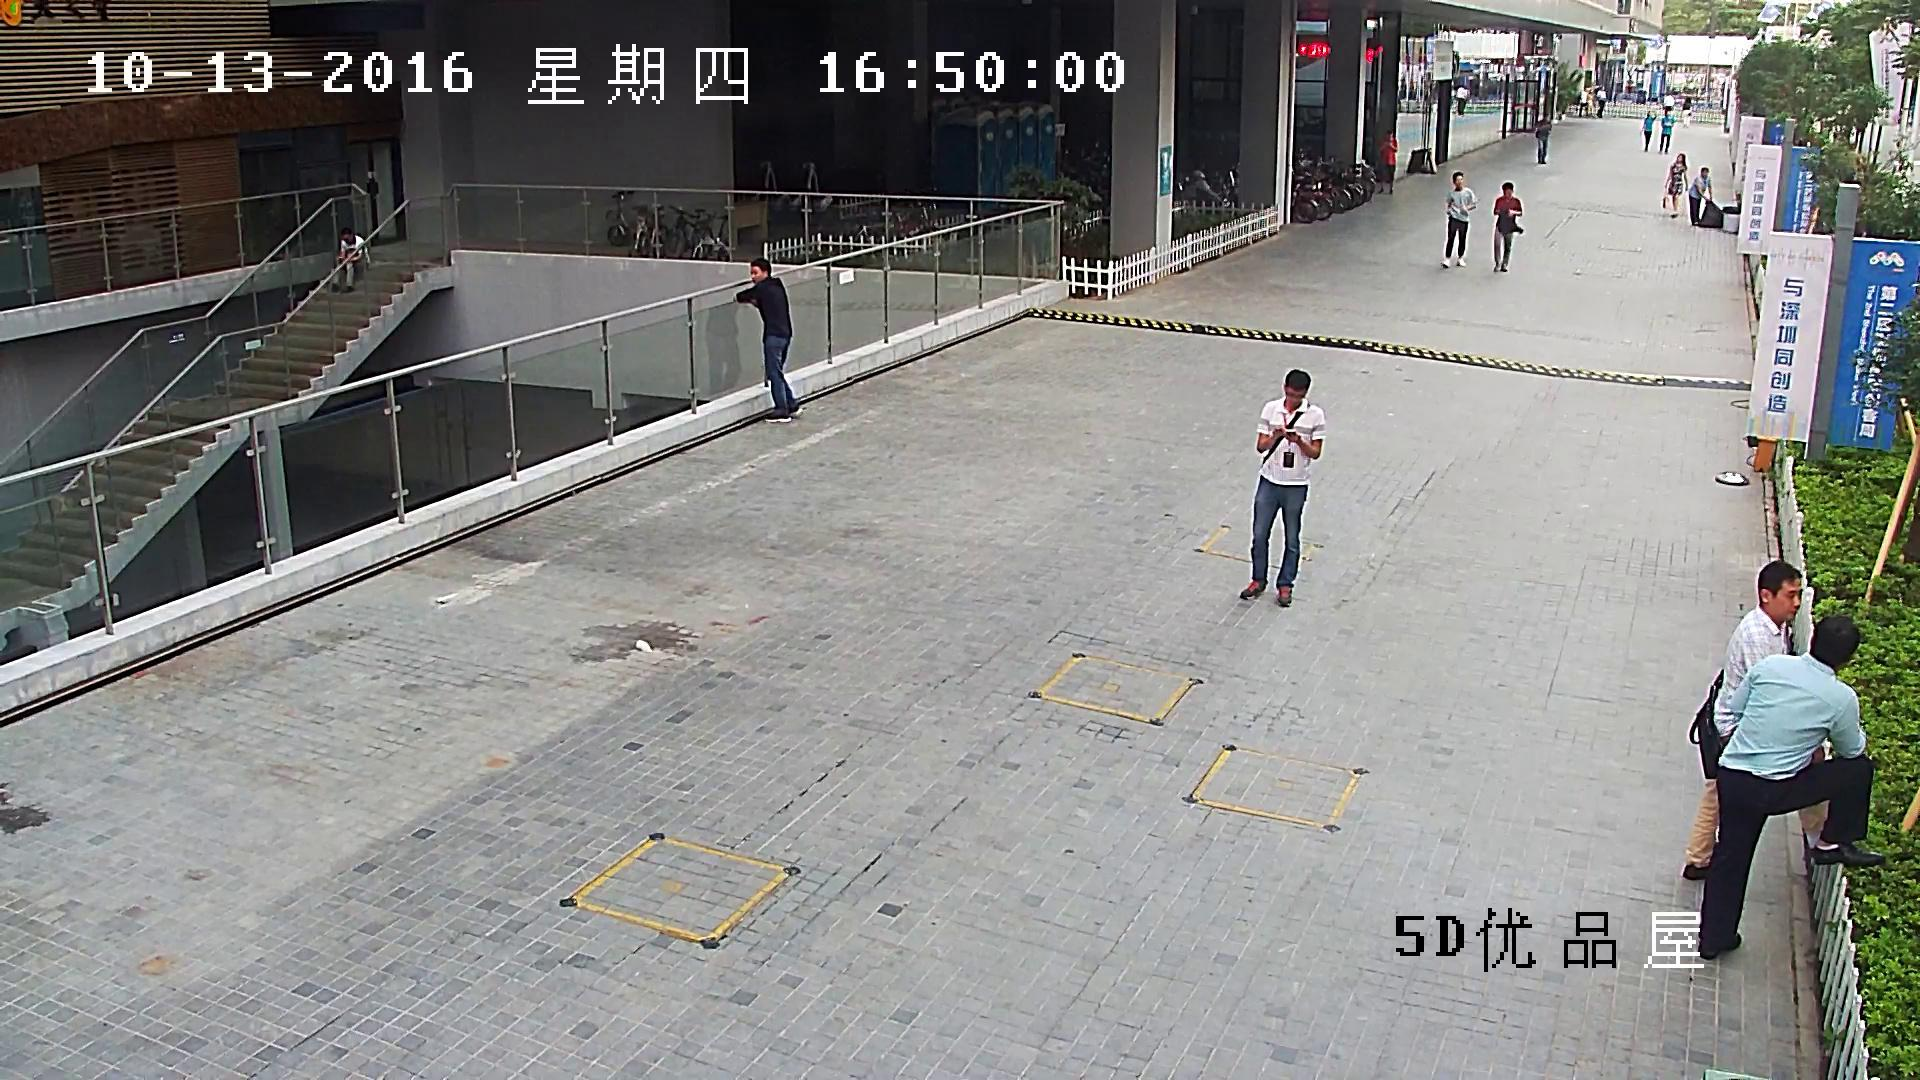person: (1701, 616, 1880, 961), (1682, 563, 1802, 880), (1239, 368, 1328, 608), (734, 258, 804, 422), (706, 288, 740, 399), (1439, 171, 1476, 269), (1493, 182, 1523, 271), (330, 228, 370, 293), (1690, 167, 1721, 227), (1661, 152, 1688, 218), (1376, 129, 1398, 195), (1689, 167, 1713, 226), (1535, 112, 1553, 165), (1658, 109, 1673, 153), (1640, 111, 1656, 152), (1661, 91, 1675, 119), (1680, 97, 1692, 127), (1456, 83, 1467, 115), (1596, 86, 1606, 118), (1578, 88, 1588, 117), (1588, 90, 1594, 118)
